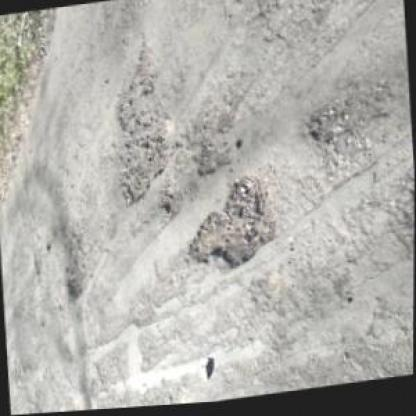pothole: (181, 170, 282, 282), (108, 108, 179, 209), (304, 83, 391, 150), (110, 39, 164, 130), (191, 97, 243, 180), (62, 244, 102, 304), (158, 178, 182, 218)
